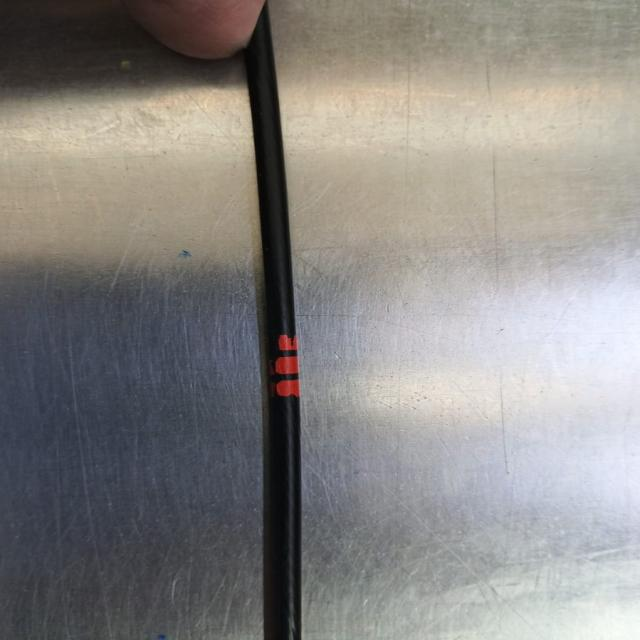red: (265, 333, 306, 400)
